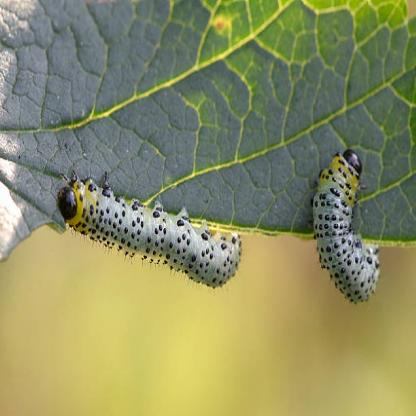sawfly: (53, 160, 246, 296), (307, 146, 388, 313)
